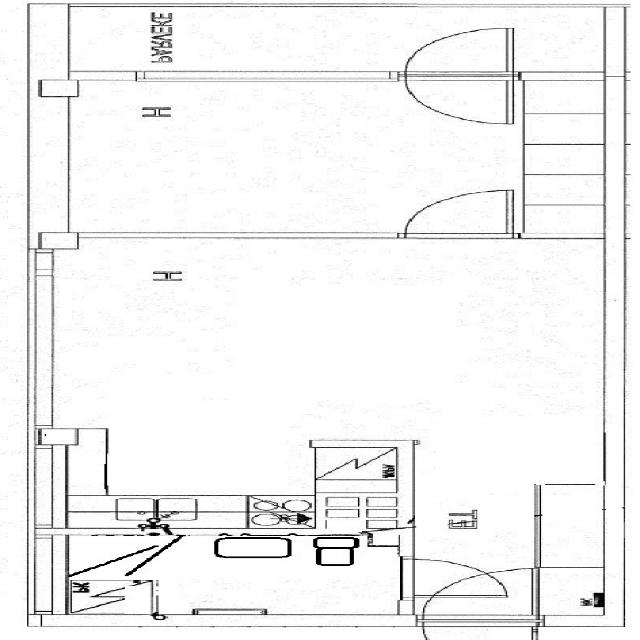door: (424, 569, 537, 619), (407, 191, 512, 238), (407, 77, 514, 123), (408, 29, 514, 74), (398, 559, 508, 597), (424, 621, 536, 640)
